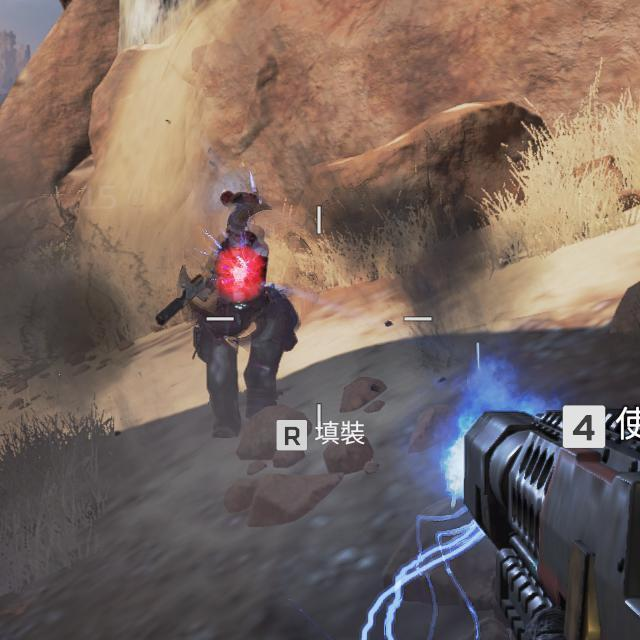avatar: (190, 187, 300, 442)
object: (219, 244, 265, 302)
